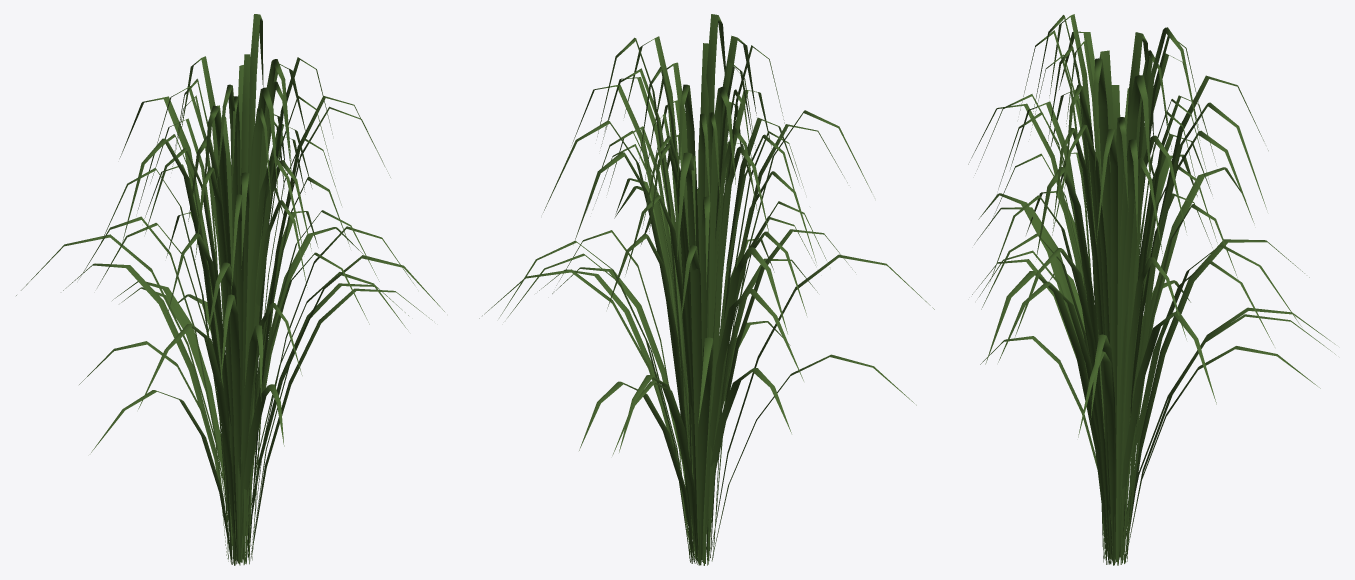
File: ornamental_grass_03.glb
3 renders of one model, left to right at view 1: azimuth 30°, elevation 25°; view 2: azimuth 150°, elevation 25°; view 3: azimuth 270°, elevation 25°, orthographic. The views are drawn at different scales.
Parts seen in each view (by area): view 1: ORNAMENTAL_GRASS_03; view 2: ORNAMENTAL_GRASS_03; view 3: ORNAMENTAL_GRASS_03.
Part boxes in pixels (x1,y1,x2,y2): ORNAMENTAL_GRASS_03: (16, 14, 444, 565); ORNAMENTAL_GRASS_03: (479, 14, 934, 565); ORNAMENTAL_GRASS_03: (968, 14, 1335, 565).
Bounding box in the file's own units: 0.859 × 1.17 × 0.7143.
